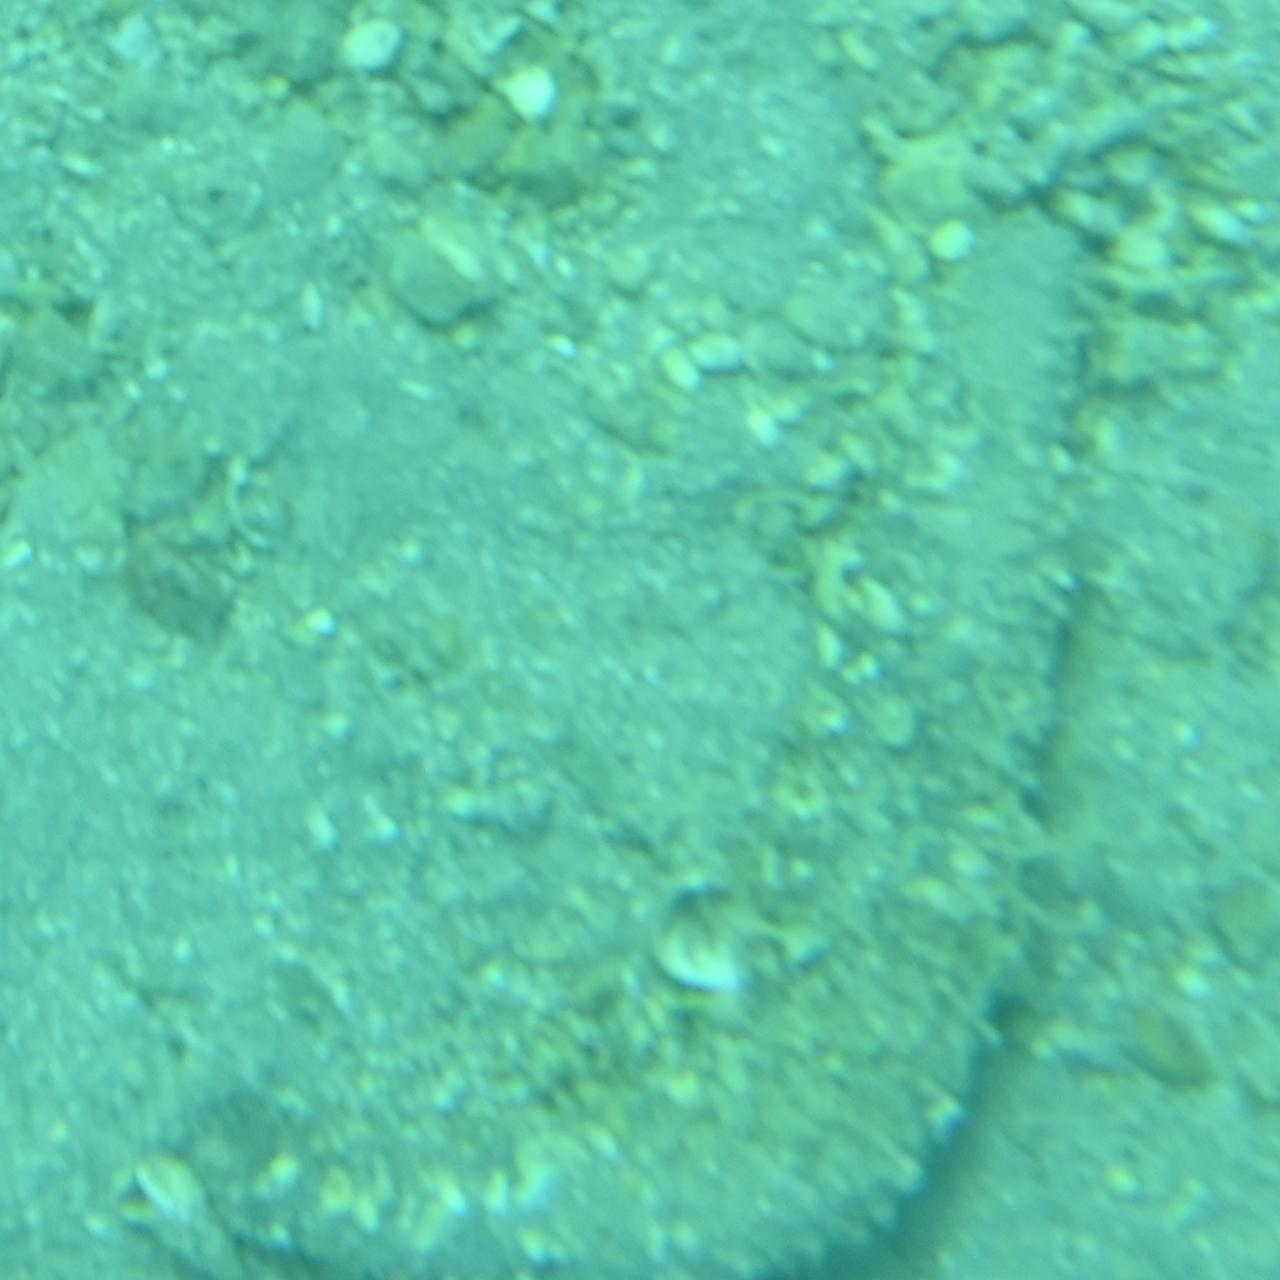Holothuria tubulosa: (151, 200, 1129, 1278)
